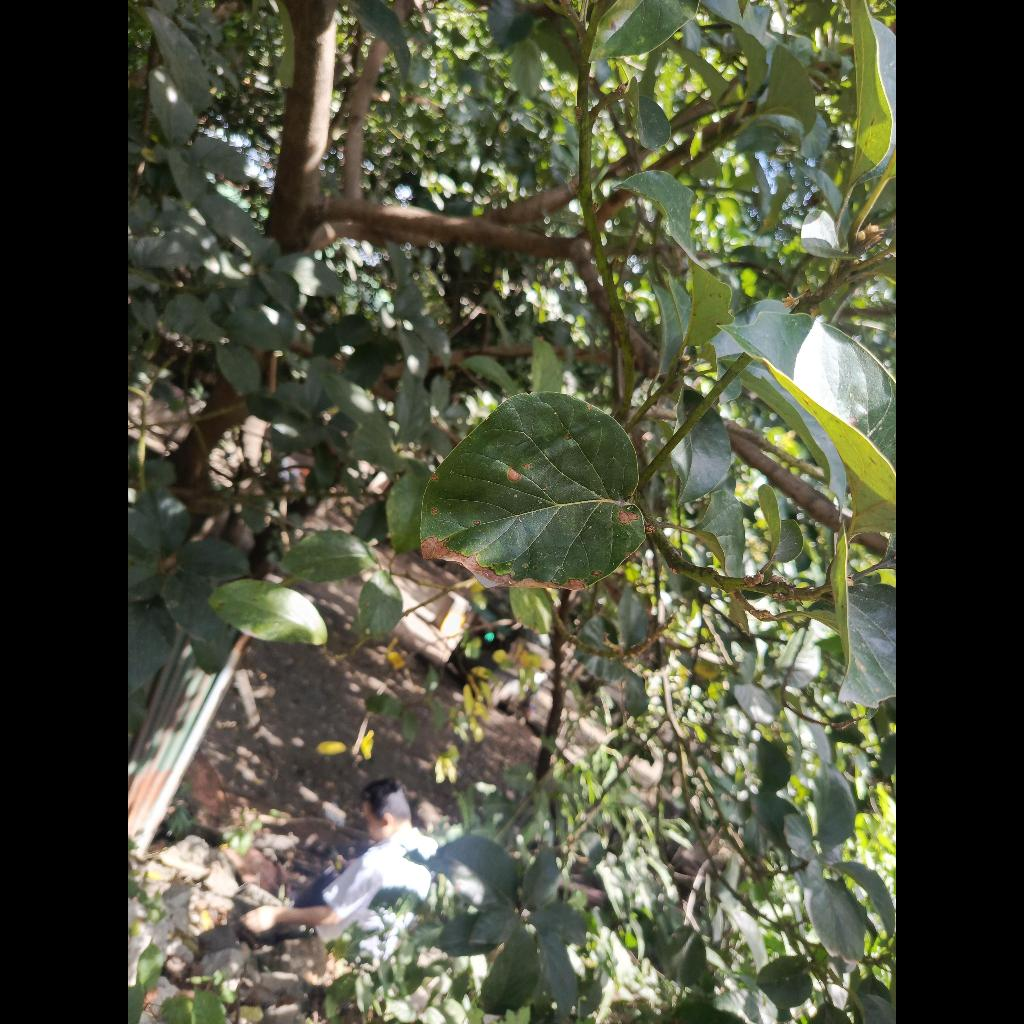Anthracnose: (421, 393, 644, 589)
